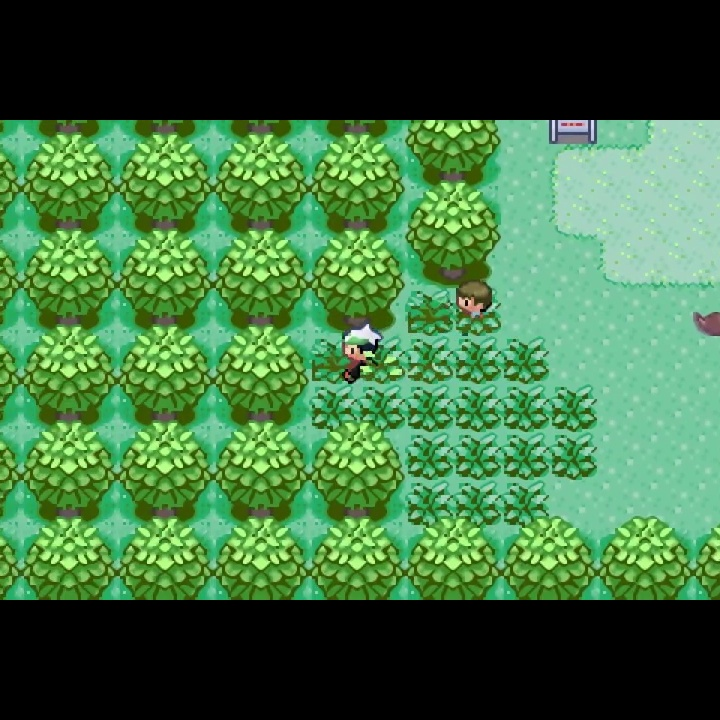grass: (453, 432, 502, 484), (453, 384, 505, 433), (552, 385, 601, 436), (503, 385, 553, 434), (405, 384, 454, 434), (502, 337, 552, 386), (503, 433, 551, 484), (549, 433, 598, 482), (405, 434, 453, 483), (454, 335, 502, 383), (454, 482, 503, 529), (406, 289, 453, 338), (404, 482, 454, 528), (311, 385, 360, 431), (503, 482, 550, 529), (359, 385, 406, 432), (406, 337, 453, 383), (310, 336, 344, 385), (377, 337, 406, 384)
npc: (452, 277, 497, 339), (340, 322, 381, 387)
wall: (311, 228, 408, 340), (211, 326, 312, 431), (211, 422, 311, 526), (21, 228, 119, 334), (21, 326, 119, 429), (118, 422, 214, 527), (407, 181, 501, 288), (118, 133, 216, 235), (312, 131, 408, 235), (310, 422, 406, 526), (118, 229, 216, 330), (23, 422, 118, 526), (118, 324, 211, 430), (215, 227, 312, 327), (23, 132, 118, 233), (215, 135, 310, 230), (597, 515, 694, 599), (212, 519, 311, 600), (501, 517, 597, 600), (118, 518, 213, 599), (23, 519, 119, 599), (311, 519, 405, 600), (406, 519, 501, 599), (404, 120, 500, 190), (214, 120, 310, 145), (309, 120, 403, 145), (1, 233, 23, 335), (117, 121, 214, 144), (694, 515, 720, 600), (23, 121, 116, 144), (1, 142, 23, 238), (1, 430, 23, 523), (1, 331, 21, 430), (1, 525, 22, 599)
